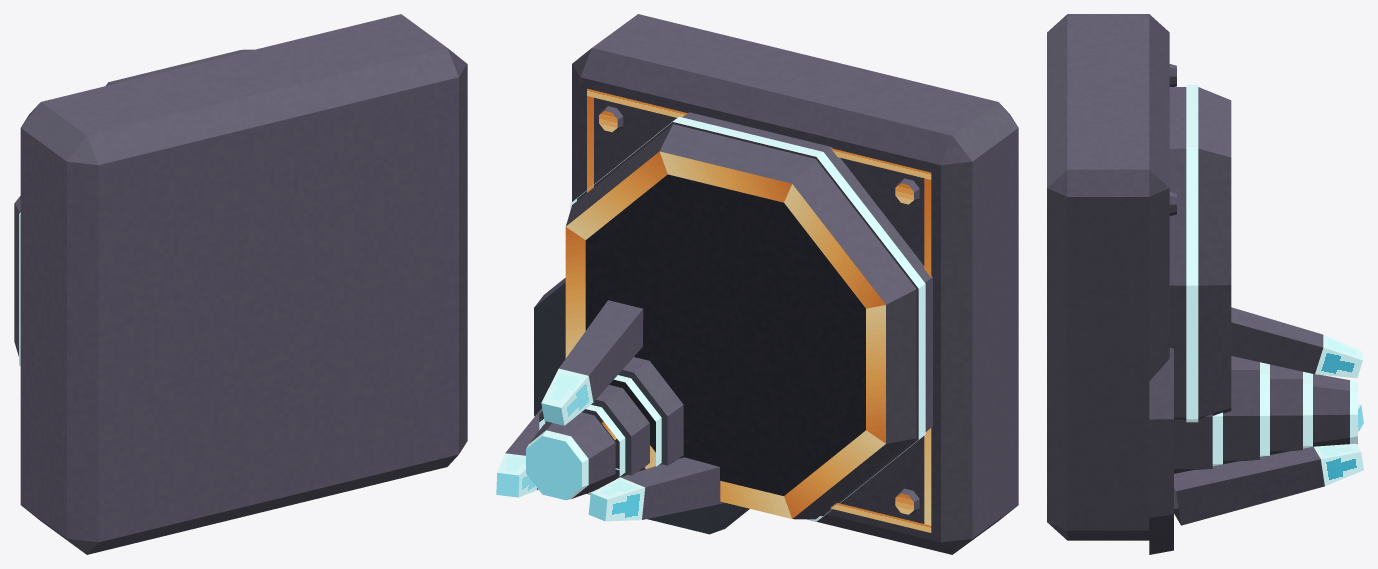
File: marlit_laser_drill.glb
3 renders of one model, left to right at view 1: azimuth 30°, elevation 25°; view 2: azimuth 150°, elevation 25°; view 3: azimuth 270°, elevation 25°, orthographic. The views are drawn at different scales.
Visible parts, largest first — view 1: marlit_laser_drill_body; view 2: marlit_laser_drill_body, marlit_laser_drill_head; view 3: marlit_laser_drill_body, marlit_laser_drill_head.
Boxes of the visible parts, x1,y1,x2,y2 form: marlit_laser_drill_body: (14,14,467,554); marlit_laser_drill_body: (565,14,1018,554); marlit_laser_drill_head: (496,278,749,534); marlit_laser_drill_body: (1047,14,1231,540); marlit_laser_drill_head: (1149,307,1363,554).
Size of the model in its own units: 2.14 by 2.14 by 1.55.
1 material, 1 textured.
